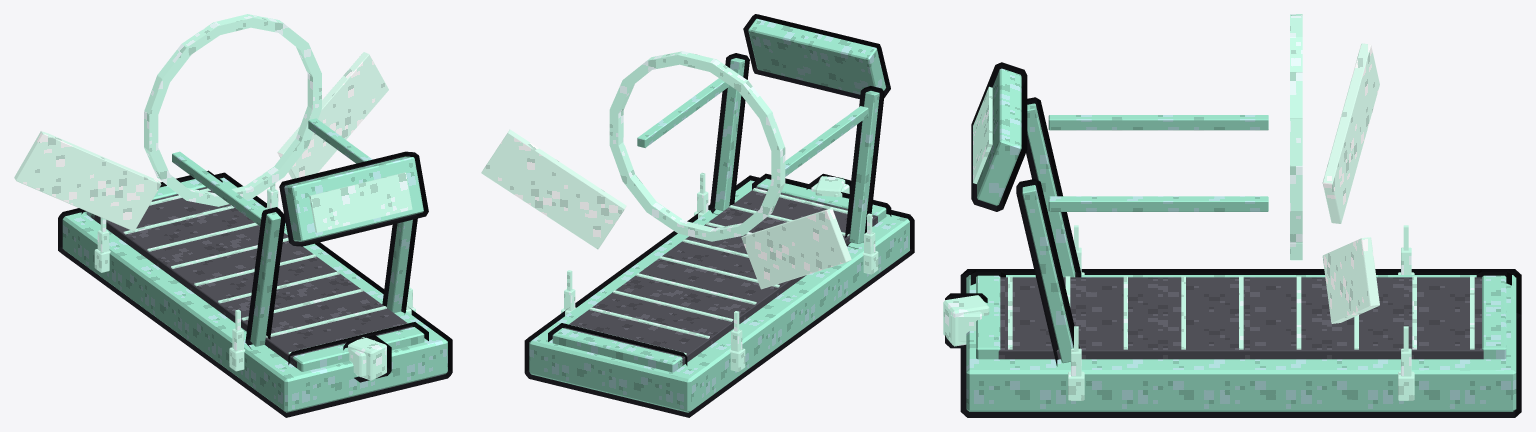
File: treadmill_15.glb
3 renders of one model, left to right at view 1: azimuth 30°, elevation 25°; view 2: azimuth 150°, elevation 25°; view 3: azimuth 270°, elevation 25°, orthographic. The views are drawn at different scales.
Parts seen in each view (by area): view 1: model; view 2: model; view 3: model.
Part boxes in pixels (x1=…): model: x1=14, y1=14, x2=452, y2=417; model: x1=481, y1=14, x2=914, y2=417; model: x1=943, y1=14, x2=1521, y2=417.
Size of the model in its own units: 2.74 by 1.96 by 3.
Materials: 5 (4 with a texture image).
